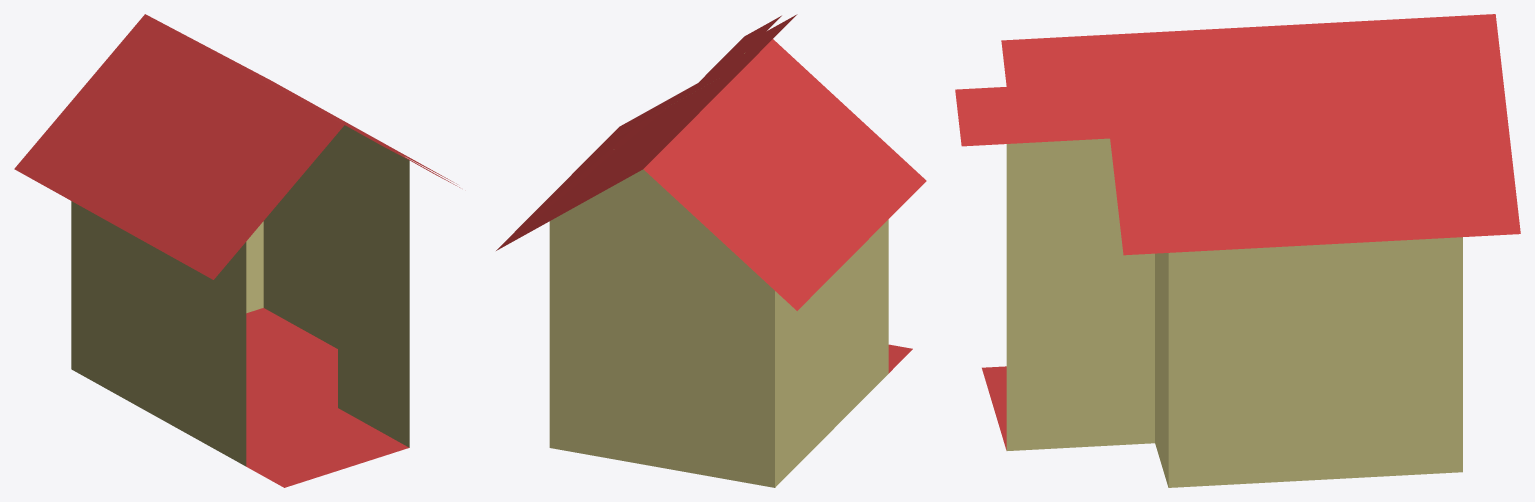
The picture shows the model from 3 angles, left to right: view 1: azimuth 30°, elevation 25°; view 2: azimuth 150°, elevation 25°; view 3: azimuth 270°, elevation 25°; orthographic projection. The views are drawn at different scales.
Bounding box in the file's own units: 13.19 × 16.34 × 12.53.
